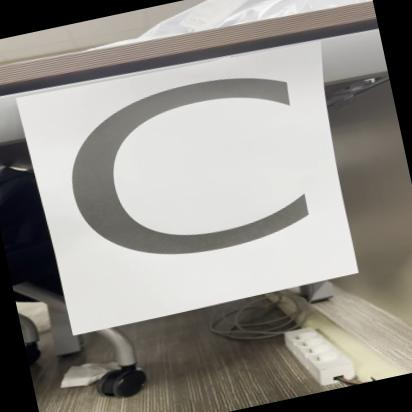seat: (24, 36, 366, 334)
